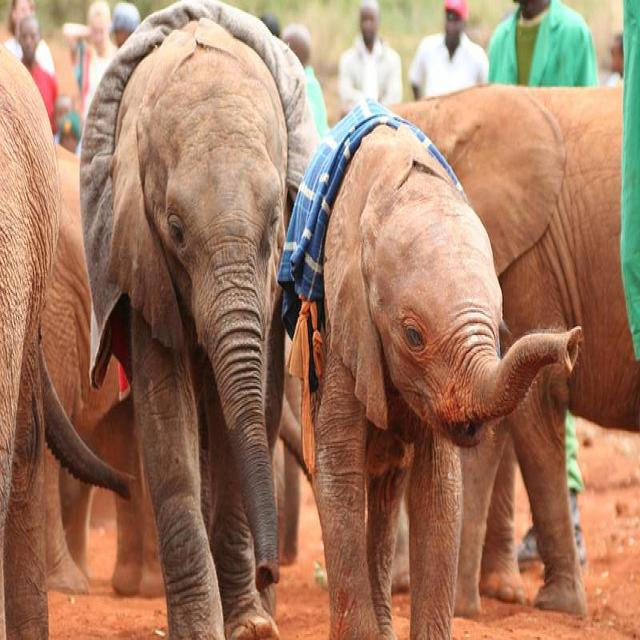Elephant: (280, 101, 583, 638), (77, 0, 320, 637)
person: (408, 0, 489, 101), (337, 0, 403, 116), (281, 23, 329, 138), (17, 15, 59, 132), (110, 0, 141, 48), (605, 30, 624, 86)
